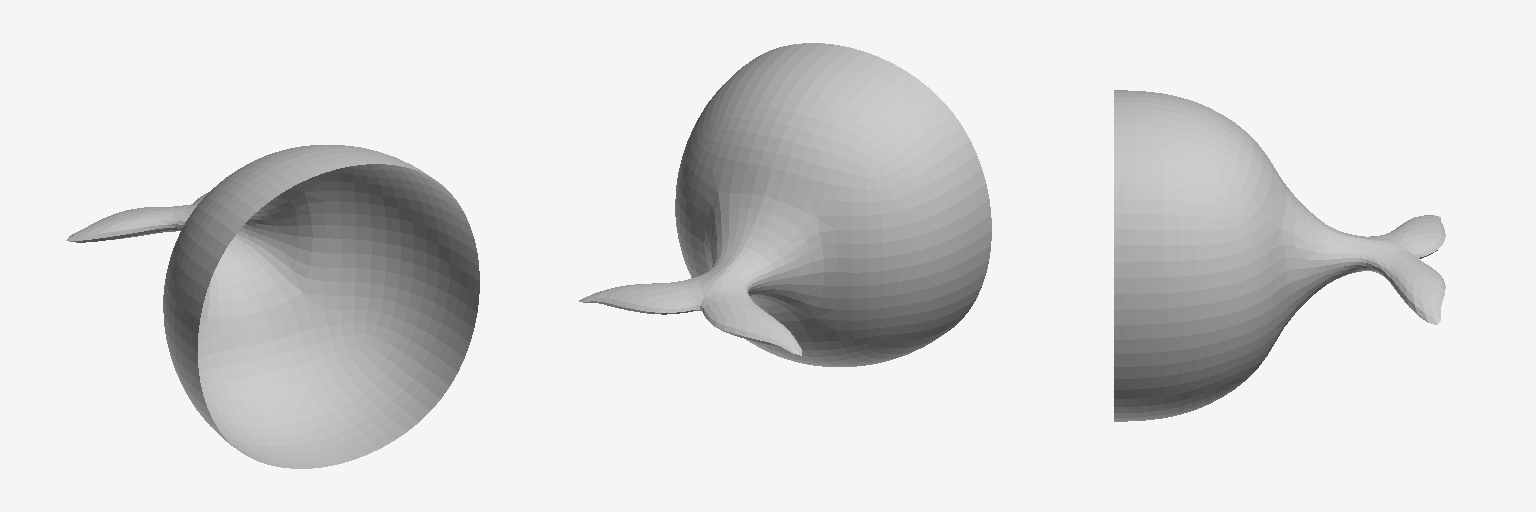
Rendered from World_Tail.obj.
The picture shows the model from 3 angles: view 1: azimuth 30°, elevation 25°; view 2: azimuth 150°, elevation 25°; view 3: azimuth 270°, elevation 25°; orthographic projection.
Visible parts, largest first — view 1: Cube.002; view 2: Cube.002; view 3: Cube.002.
Part boxes in pixels (bbox=[...]): Cube.002: bbox=[66, 145, 479, 468]; Cube.002: bbox=[579, 43, 991, 366]; Cube.002: bbox=[1114, 90, 1445, 421].
Size of the model in its own units: 3235 by 3235 by 3285.